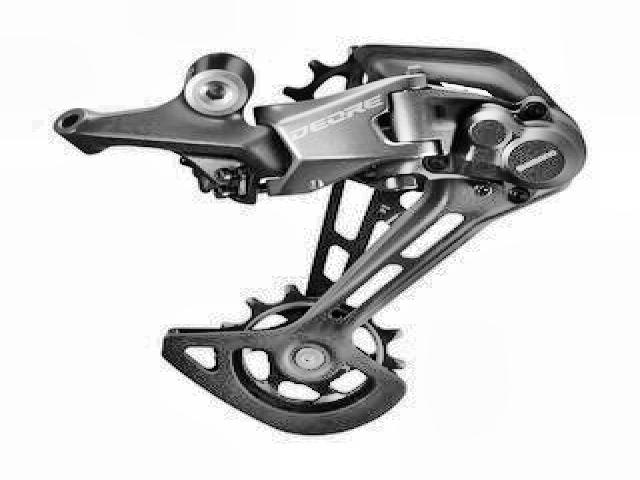rear_derailleur: (52, 38, 594, 442)
